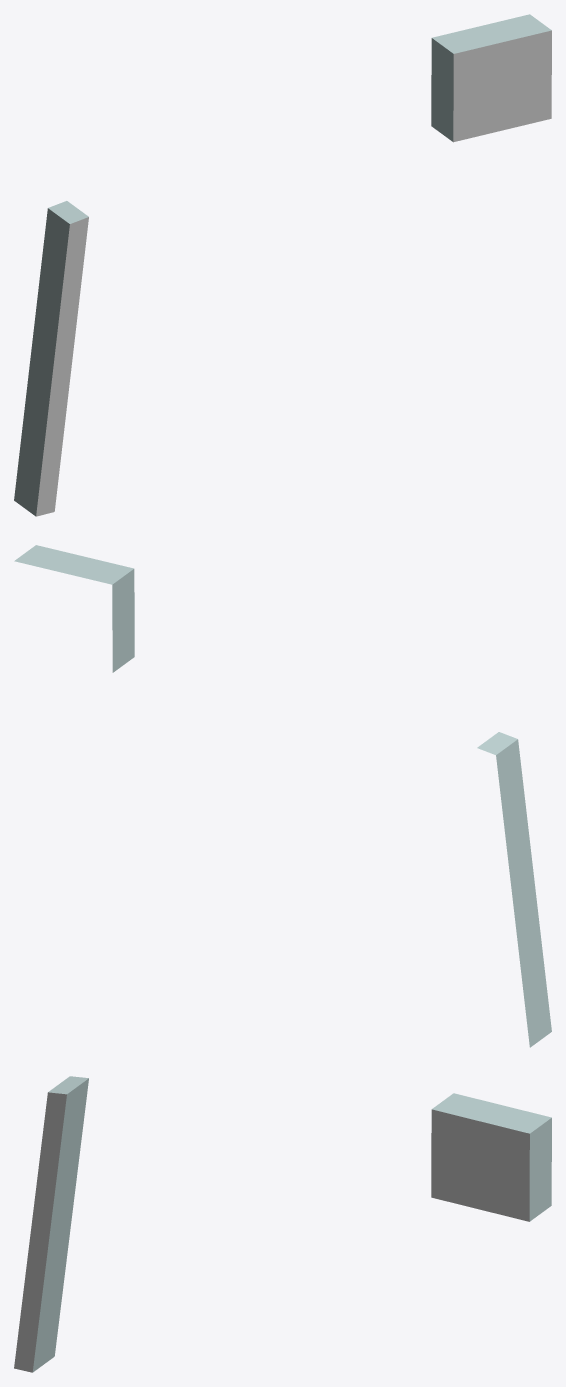
3 views of the same model, one above another, from view 1: azimuth 30°, elevation 25°; view 2: azimuth 150°, elevation 25°; view 3: azimuth 330°, elevation 25° (orthographic).
Parts seen in each view (by area): view 1: 0_2_1_1_0_0_0_3_0; view 2: 0_2_1_1_0_0_0_3_0; view 3: 0_2_1_1_0_0_0_3_0.
Part boxes in pixels (x1,y1,x2,y2): 0_2_1_1_0_0_0_3_0: [14, 14, 551, 516]; 0_2_1_1_0_0_0_3_0: [14, 545, 551, 1047]; 0_2_1_1_0_0_0_3_0: [14, 1076, 551, 1372].
Size of the model in its own units: 40.43 by 27.04 by 3.02.
